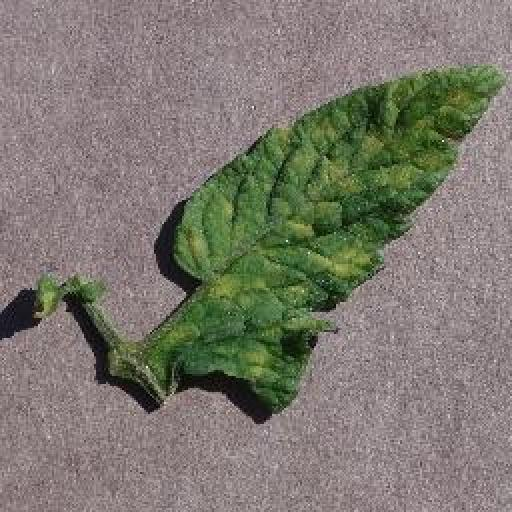disease_tomato: (172, 61, 498, 415)
